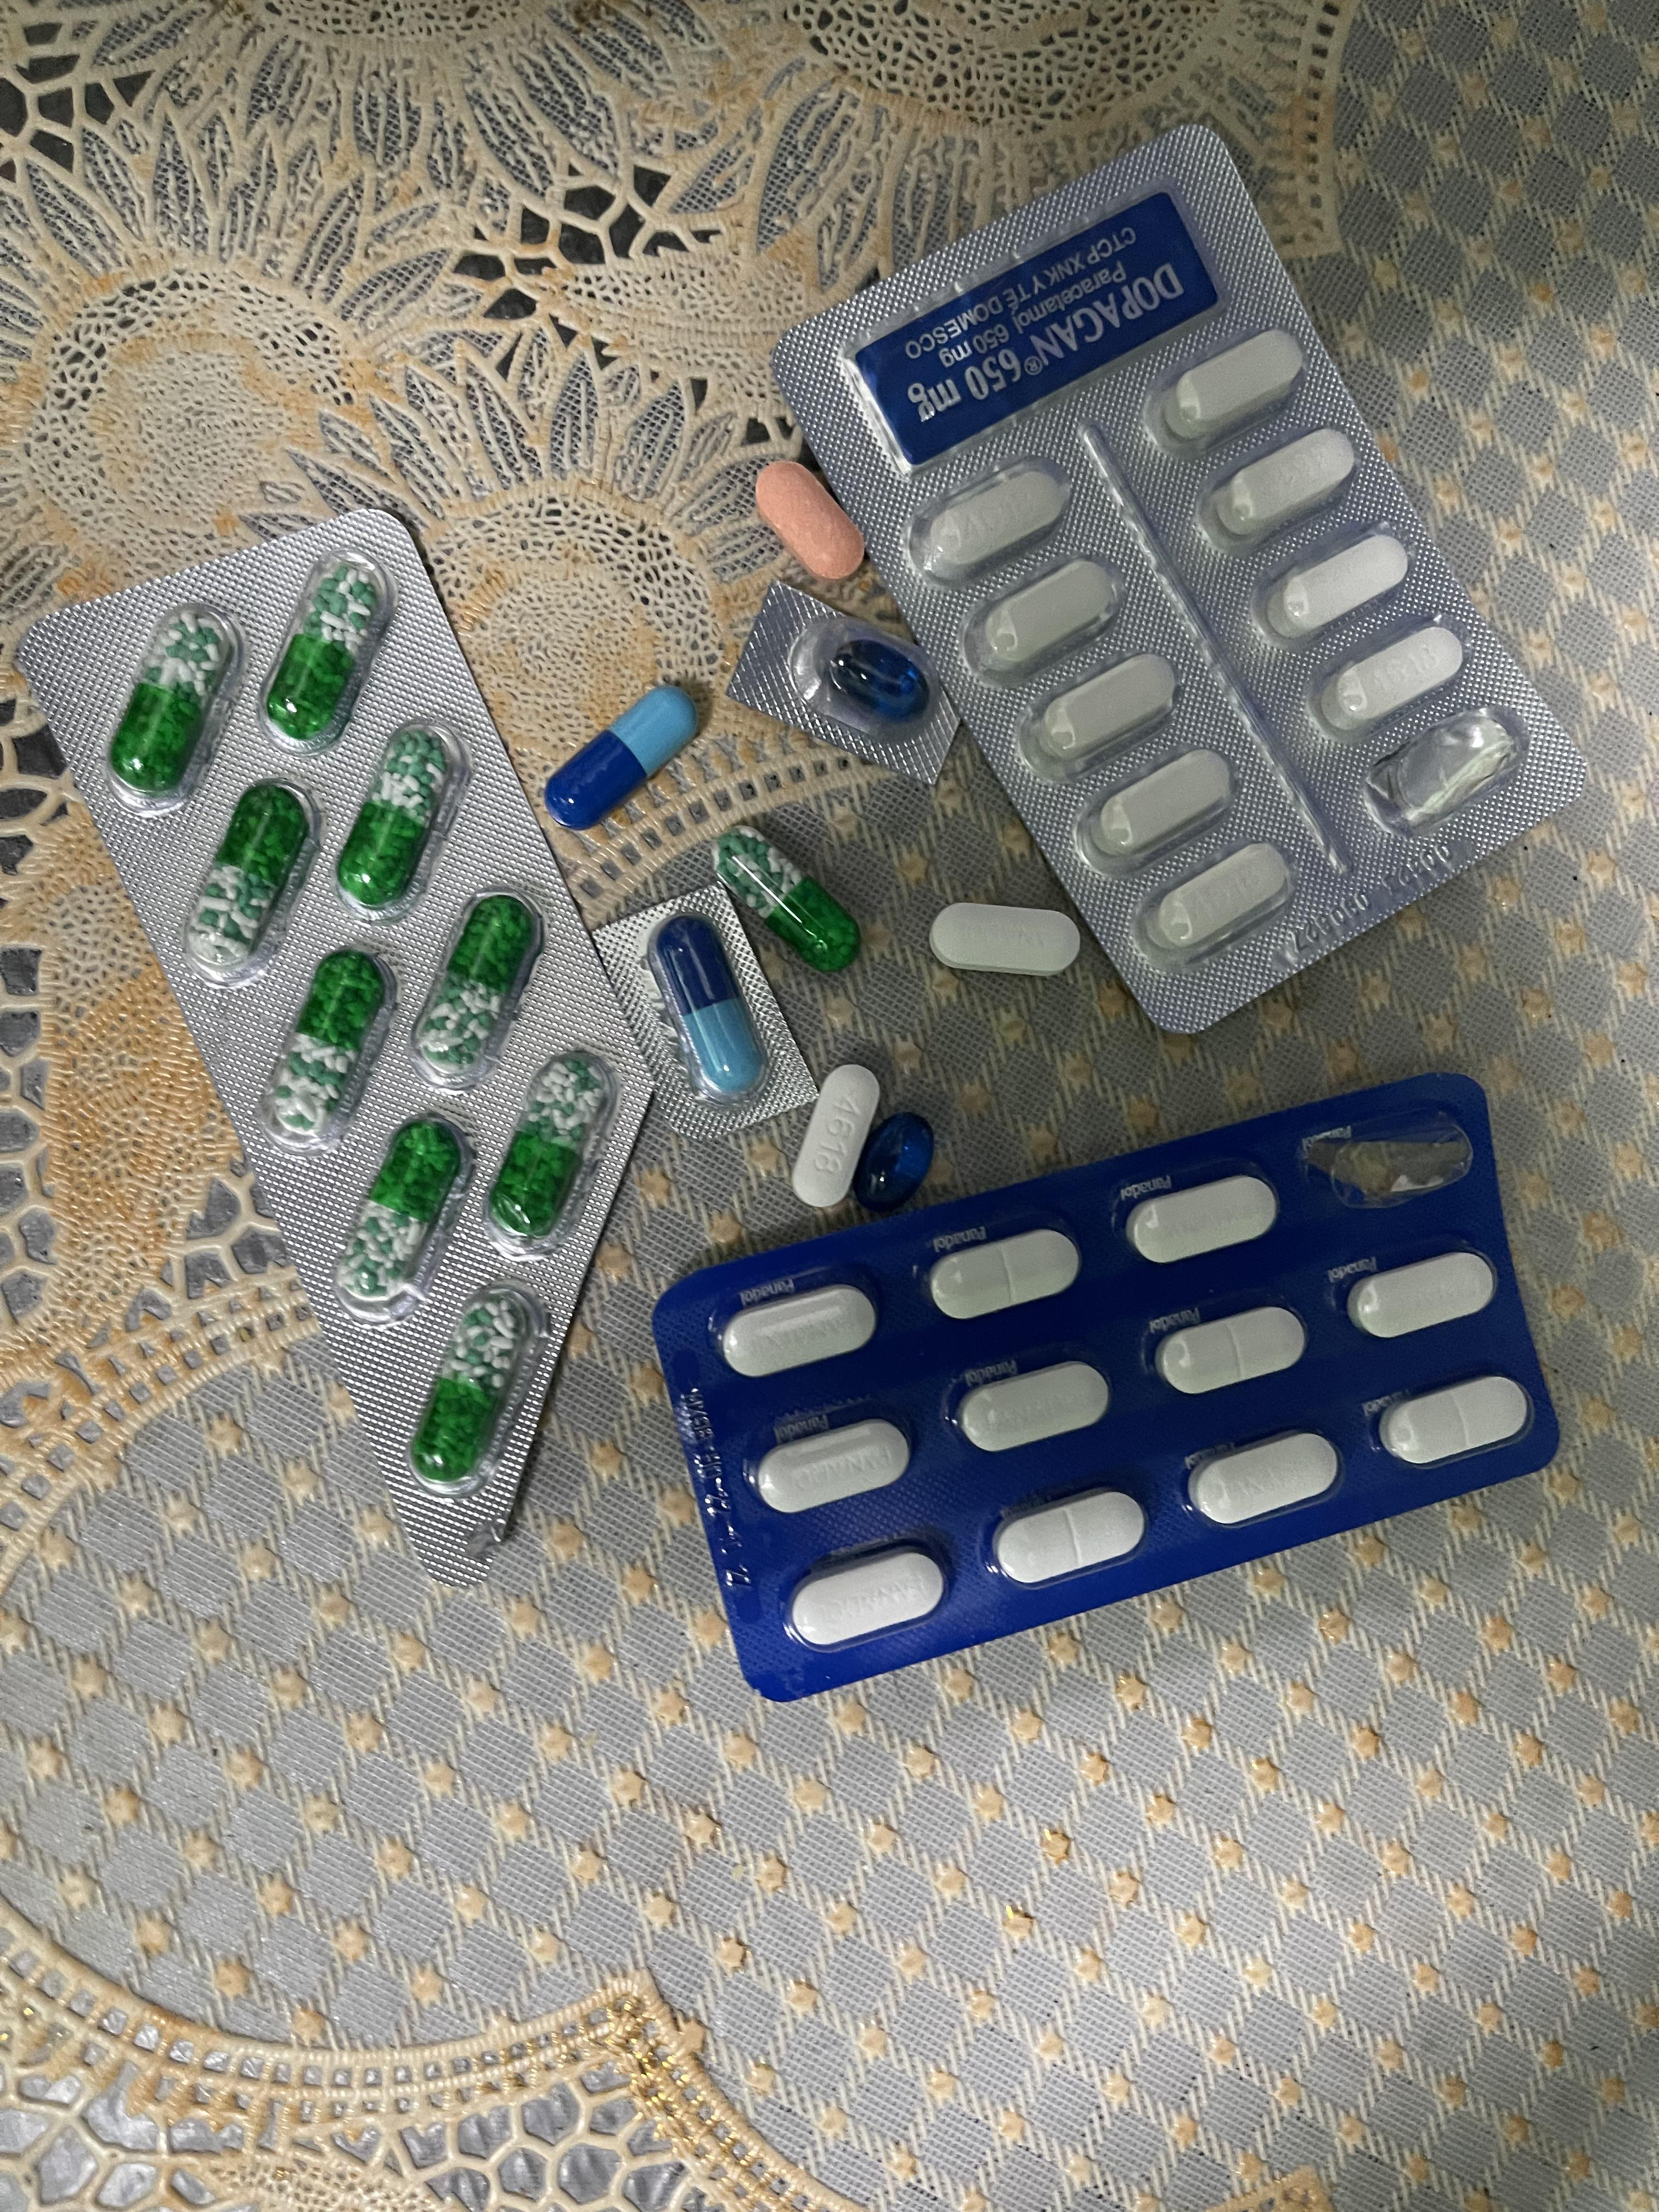Lincomyxin_500mg: (856, 1111, 936, 1209), (830, 637, 925, 716)
Loratadine_10mg: (755, 460, 863, 582)
Paracetamol_350mg: (789, 1541, 950, 1649), (755, 1416, 911, 1515), (993, 1487, 1148, 1587), (1190, 1432, 1345, 1529), (718, 1280, 873, 1378), (955, 1362, 1112, 1456), (1380, 1374, 1537, 1468), (1126, 1176, 1284, 1266), (927, 1230, 1079, 1324), (1155, 1306, 1307, 1397), (1347, 1252, 1499, 1341), (931, 902, 1080, 977)
Paracetamol_500mg: (1079, 745, 1232, 871), (1019, 651, 1171, 777), (969, 556, 1122, 679), (1202, 428, 1354, 550), (1141, 840, 1291, 961), (1310, 620, 1462, 737), (922, 462, 1070, 578), (1161, 326, 1304, 442), (1265, 531, 1412, 643), (791, 1069, 882, 1204)
Paracetamol_650mg: (397, 1282, 540, 1491), (105, 599, 244, 806), (254, 951, 399, 1148), (321, 1115, 469, 1301), (261, 550, 396, 754), (477, 1054, 617, 1244), (181, 782, 317, 975), (331, 725, 462, 921), (406, 894, 542, 1082), (718, 834, 859, 974)
pill: (545, 681, 709, 831), (647, 911, 765, 1096)
